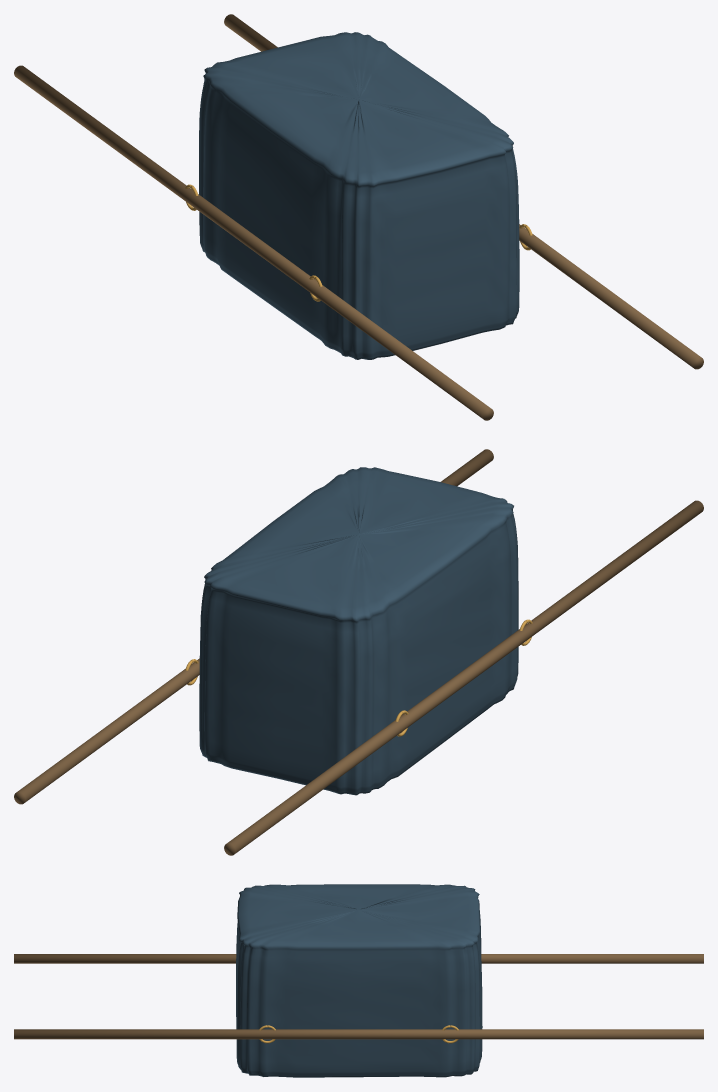
The model's file is jordan-carrying.glb.
The picture shows the model from 3 angles, top to bottom: view 1: azimuth 30°, elevation 25°; view 2: azimuth 150°, elevation 25°; view 3: azimuth 270°, elevation 25°; orthographic projection. The views are drawn at different scales.
Visible parts, largest first — view 1: jordan-carrying-jordan-blue-covering-cloth, jordan-carrying-jordan-carrying-pole-wood; view 2: jordan-carrying-jordan-blue-covering-cloth, jordan-carrying-jordan-carrying-pole-wood; view 3: jordan-carrying-jordan-blue-covering-cloth, jordan-carrying-jordan-carrying-pole-wood.
Boxes of the visible parts, box(x1,y1,x2,y2) form: jordan-carrying-jordan-blue-covering-cloth: box(199, 32, 519, 359); jordan-carrying-jordan-carrying-pole-wood: box(14, 14, 703, 420); jordan-carrying-jordan-blue-covering-cloth: box(199, 467, 518, 795); jordan-carrying-jordan-carrying-pole-wood: box(14, 449, 703, 855); jordan-carrying-jordan-blue-covering-cloth: box(236, 884, 482, 1077); jordan-carrying-jordan-carrying-pole-wood: box(14, 954, 703, 1039).
Size of the model in its own units: 0.454 by 0.361 by 1.66.
